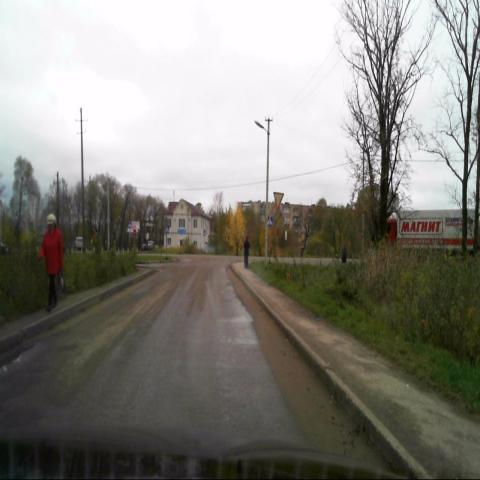2_2: (273, 207, 285, 228)
2_4: (273, 191, 284, 210)
